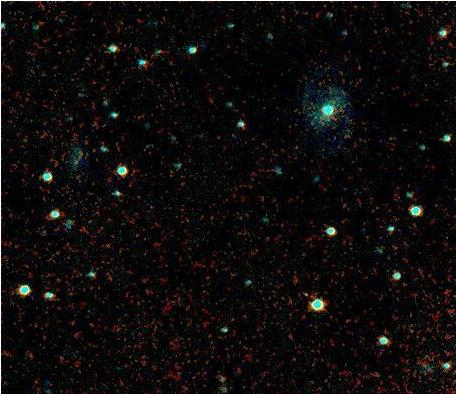star: (290, 275, 320, 305)
